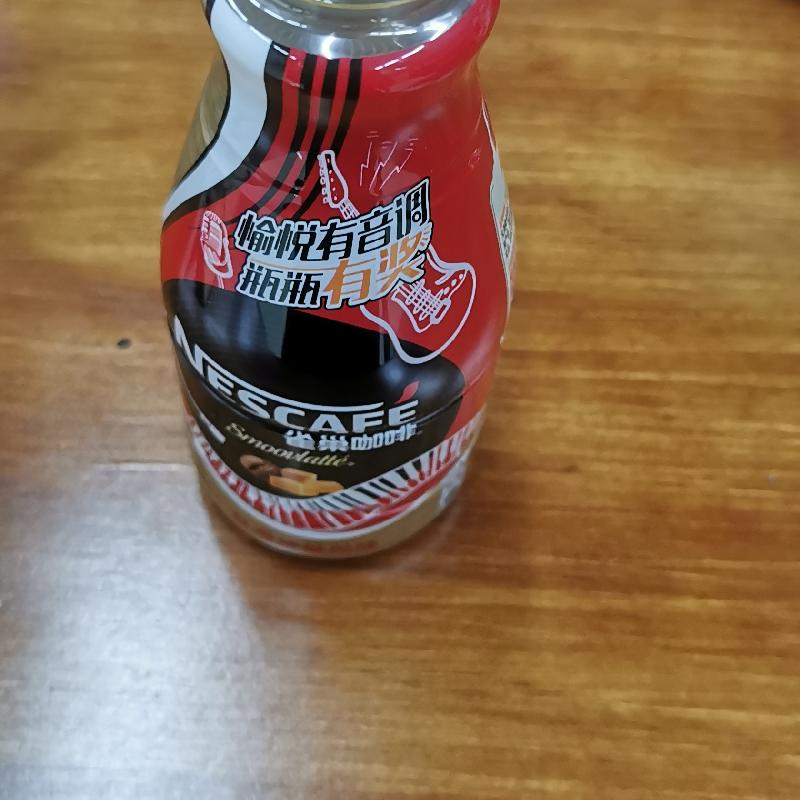bottles: (155, 0, 523, 565)
